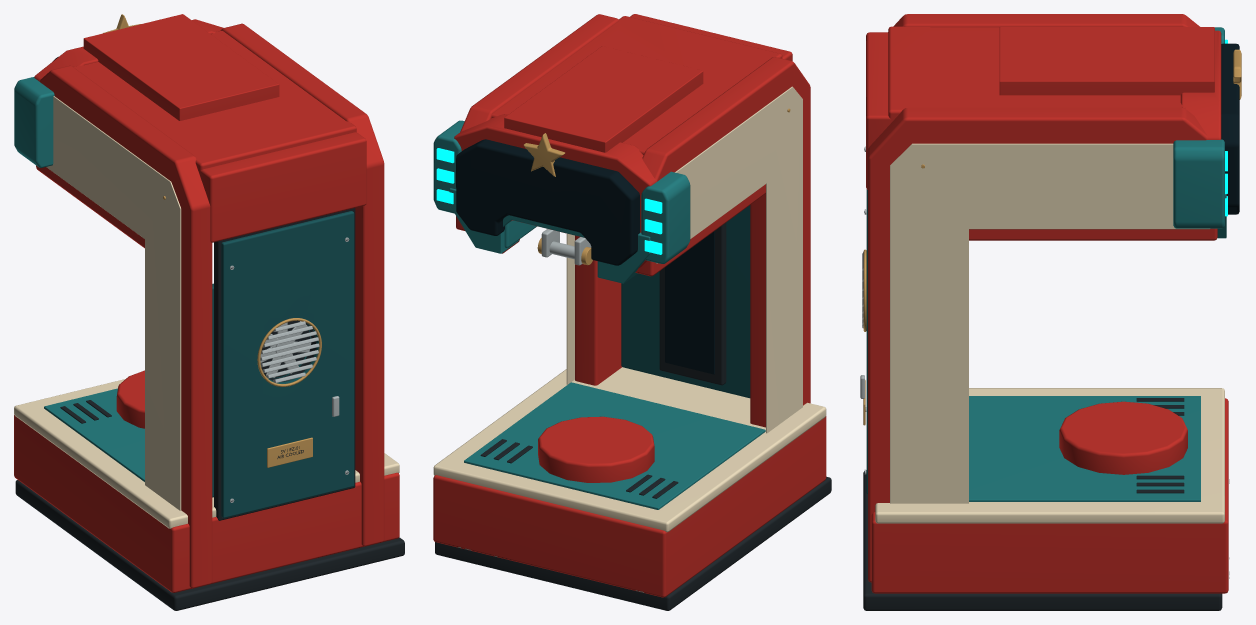
The model's file is machine-body.glb.
3 views of the same model, side by side, from view 1: azimuth 30°, elevation 25°; view 2: azimuth 150°, elevation 25°; view 3: azimuth 270°, elevation 25° (orthographic). The views are drawn at different scales.
Parts seen in each view (by area): view 1: machine-body_Enamel_Oxblood, machine-body_Enamel_ShadowPetrol, machine-body_Enamel_Ivory, machine-body_Rubber_Graphite, machine-body_Enamel_DeepPetrol, machine-body_Brushed_Nickel, machine-body_Aged_Brass; view 2: machine-body_Enamel_Oxblood, machine-body_Enamel_Ivory, machine-body_Enamel_DeepPetrol, machine-body_Smoked_Display, machine-body_Rubber_Graphite, machine-body_Enamel_ShadowPetrol, machine-body_Mat_CyanEmissive, machine-body_Aged_Brass, machine-body_Brushed_Nickel; view 3: machine-body_Enamel_Oxblood, machine-body_Enamel_Ivory, machine-body_Enamel_DeepPetrol, machine-body_Rubber_Graphite, machine-body_Smoked_Display, machine-body_Aged_Brass, machine-body_Enamel_ShadowPetrol.
Boxes of the visible parts, box(x1,y1,x2,y2) form: machine-body_Enamel_Oxblood: box(14, 14, 399, 592); machine-body_Enamel_ShadowPetrol: box(212, 211, 354, 517); machine-body_Enamel_Ivory: box(14, 96, 399, 528); machine-body_Rubber_Graphite: box(15, 208, 404, 610); machine-body_Enamel_DeepPetrol: box(14, 77, 144, 481); machine-body_Brushed_Nickel: box(230, 237, 349, 502); machine-body_Aged_Brass: box(103, 14, 321, 467); machine-body_Enamel_Oxblood: box(433, 14, 826, 597); machine-body_Enamel_Ivory: box(433, 86, 826, 532); machine-body_Enamel_DeepPetrol: box(433, 120, 765, 509); machine-body_Smoked_Display: box(456, 139, 714, 374); machine-body_Rubber_Graphite: box(435, 223, 831, 610); machine-body_Enamel_ShadowPetrol: box(621, 205, 750, 398); machine-body_Mat_CyanEmissive: box(436, 148, 662, 254); machine-body_Aged_Brass: box(523, 108, 790, 265); machine-body_Brushed_Nickel: box(541, 229, 591, 265); machine-body_Enamel_Oxblood: box(866, 14, 1228, 593); machine-body_Enamel_Ivory: box(875, 143, 1224, 523); machine-body_Enamel_DeepPetrol: box(969, 27, 1226, 501); machine-body_Rubber_Graphite: box(863, 148, 1222, 610); machine-body_Smoked_Display: box(1221, 43, 1239, 214); machine-body_Aged_Brass: box(863, 49, 1241, 425); machine-body_Enamel_ShadowPetrol: box(866, 189, 867, 494).
Size of the model in its own units: 1.62 by 2.99 by 2.07.
